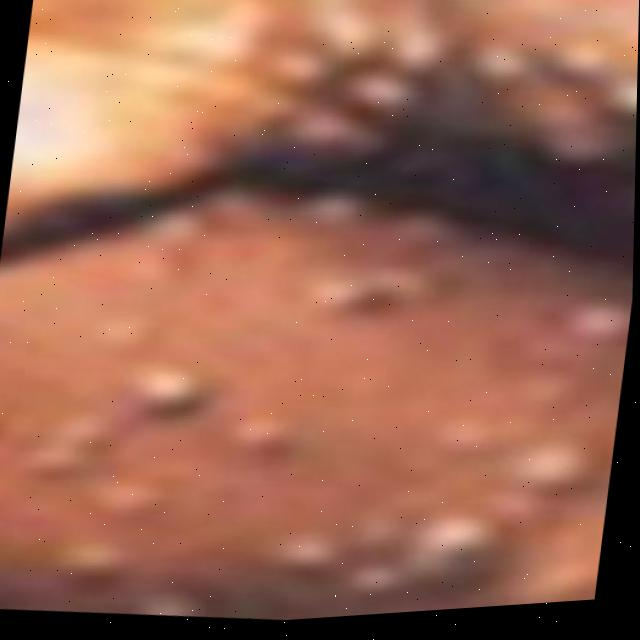Eczema: (30, 0, 640, 617)
